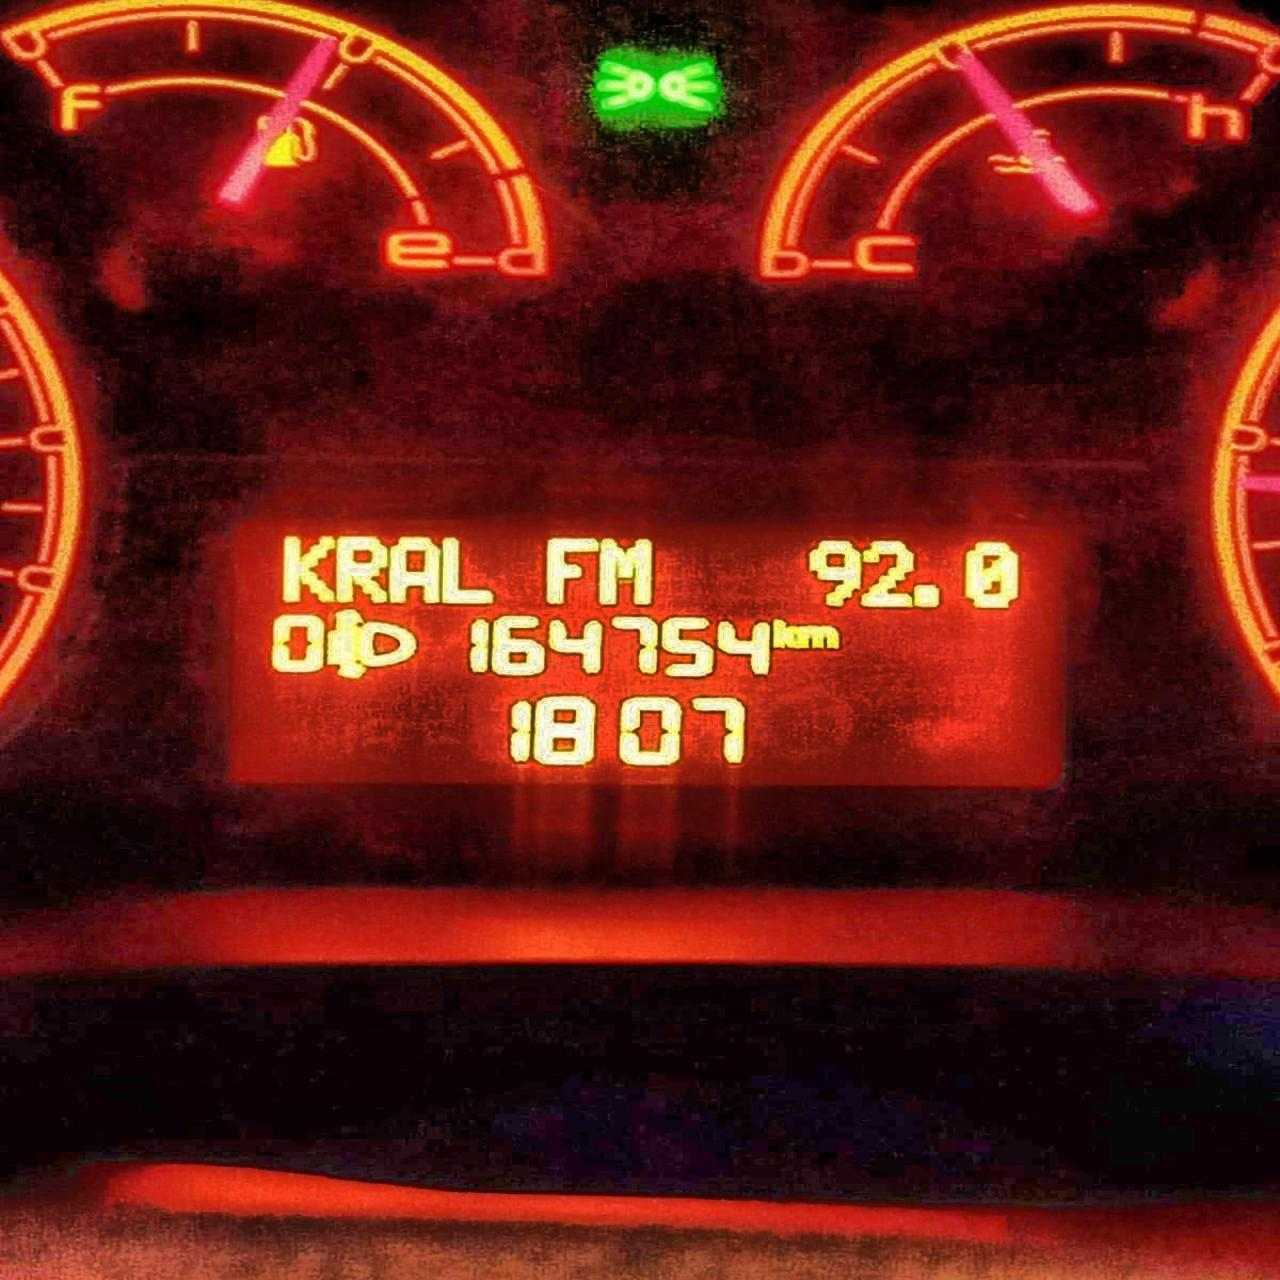-: (912, 578, 940, 613)
0: (958, 533, 1019, 618), (615, 692, 682, 765), (267, 611, 324, 675)
1: (503, 694, 532, 769), (465, 613, 491, 683)
2: (862, 535, 913, 611)
4: (545, 614, 607, 675), (716, 615, 769, 679)
5: (661, 614, 713, 676)
6: (492, 613, 544, 678)
7: (692, 693, 753, 765), (610, 611, 659, 675)
8: (535, 692, 599, 772)
9: (806, 533, 859, 611)
X: (599, 535, 660, 607), (544, 532, 598, 606), (336, 532, 389, 606), (280, 532, 333, 606), (443, 535, 497, 606), (392, 532, 442, 606), (798, 621, 840, 651), (770, 615, 798, 652)
odometer: (226, 520, 1078, 789)
